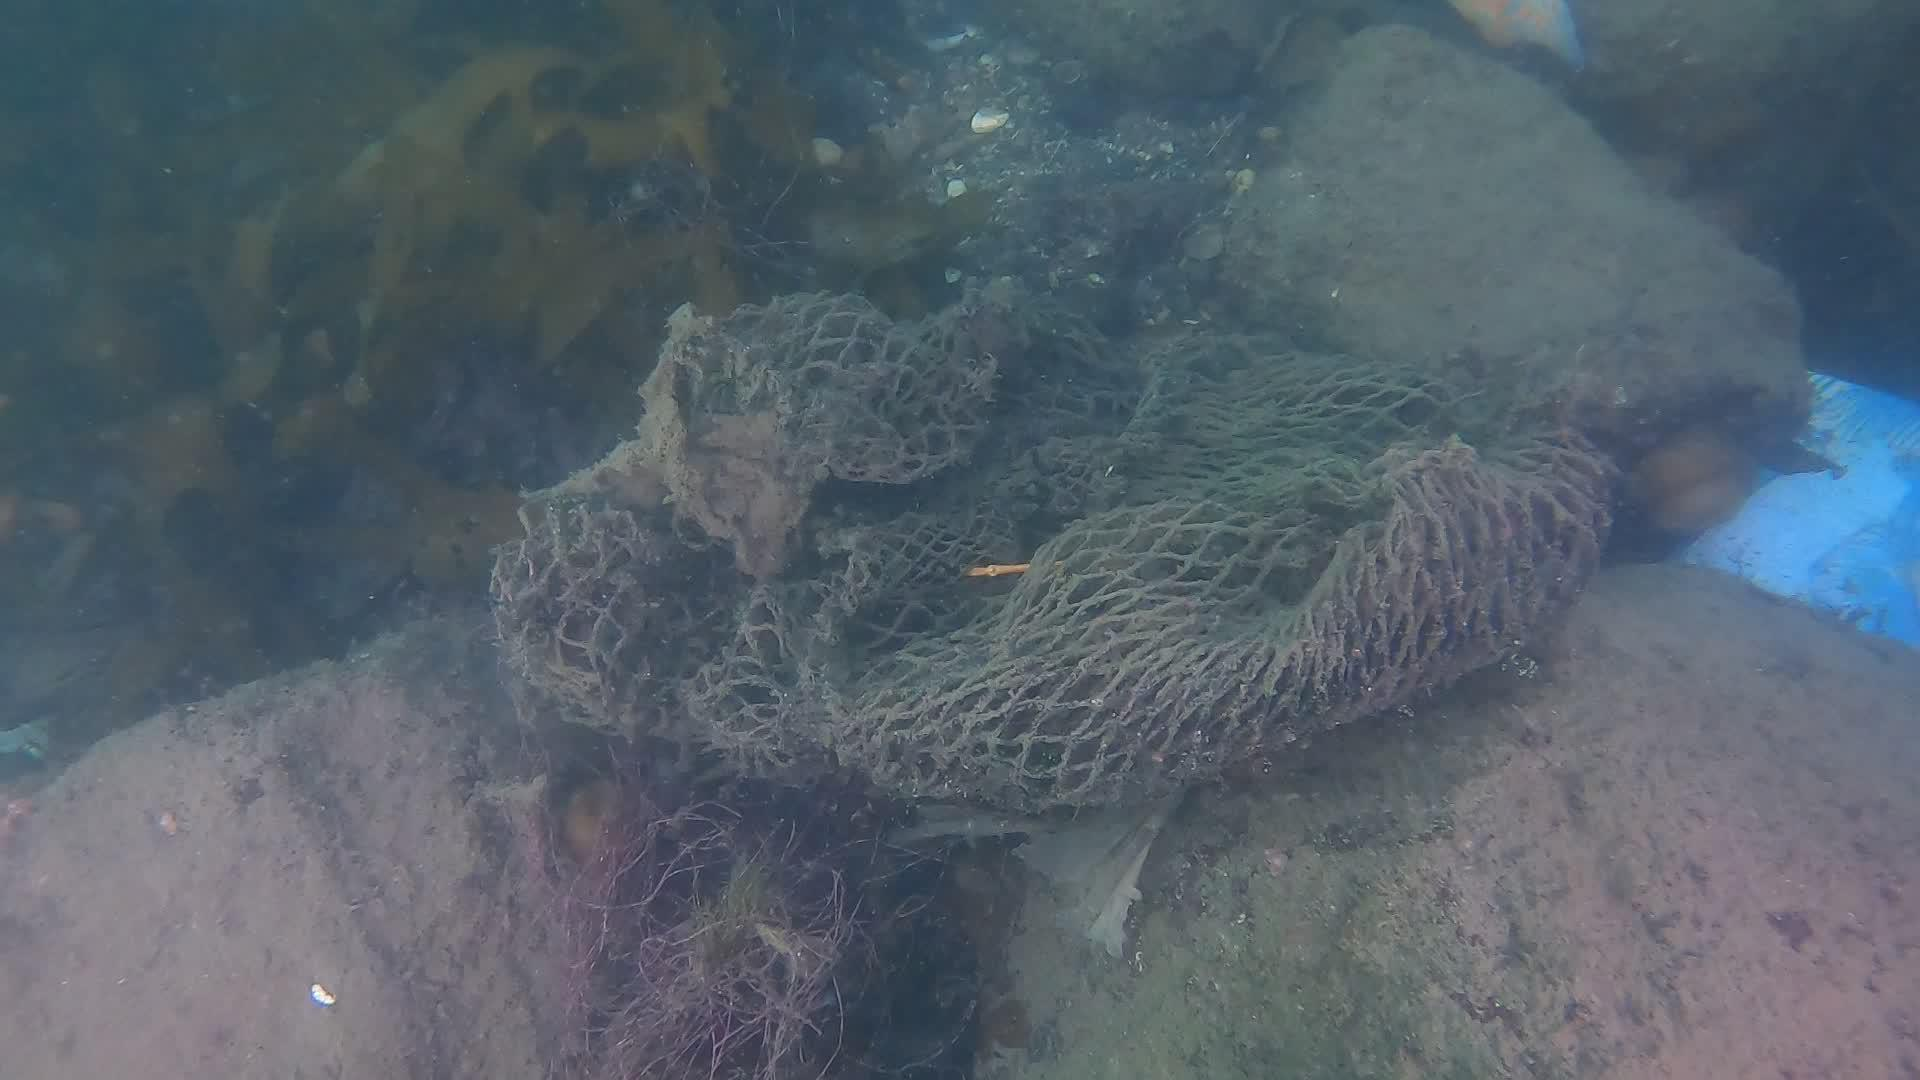fish net: (485, 272, 1621, 811)
